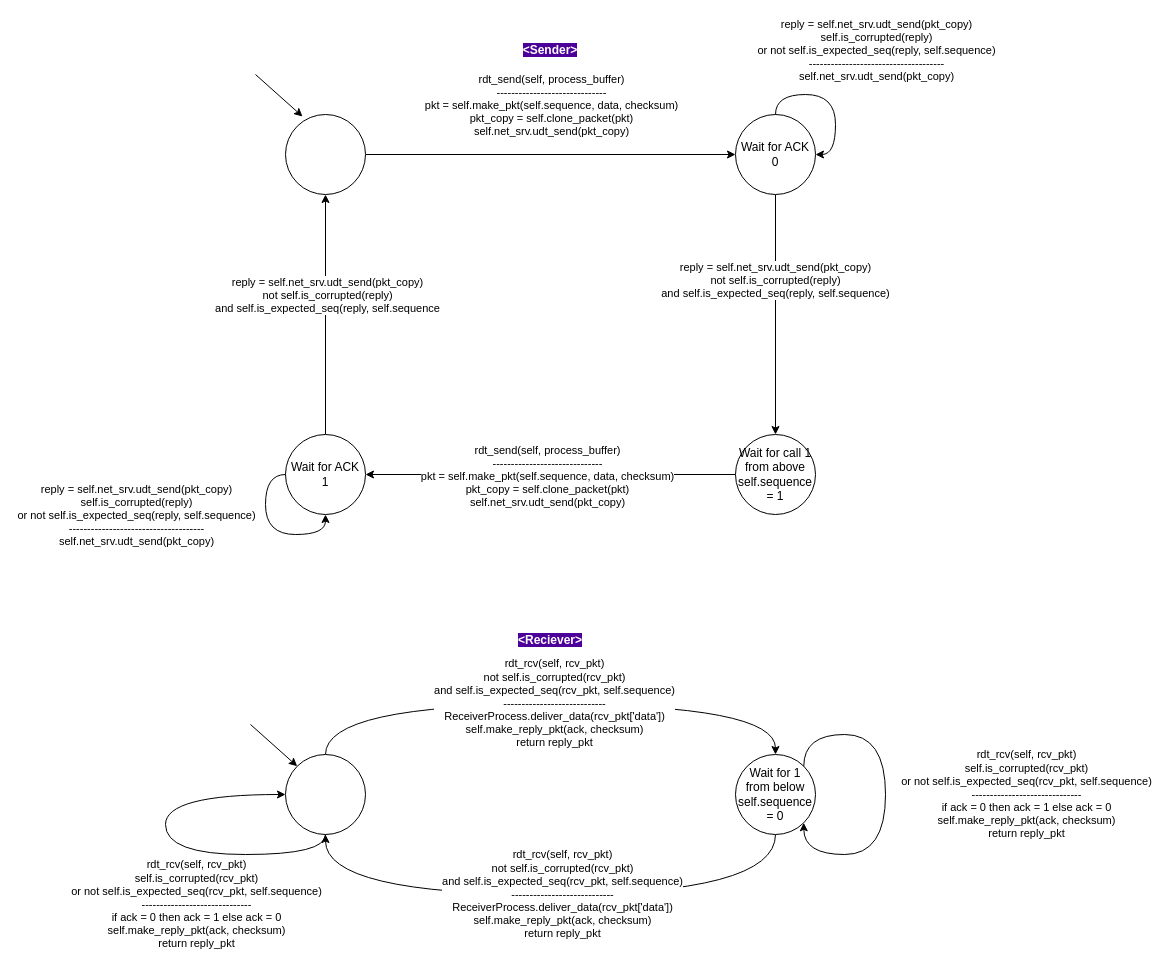
The diagram is 1169 pixels wide and 967 high, and some of its shapes have lost their labels. Each missing label, with the box of its shape:
Wait for 0 from below self.sequence = 0: (284, 754, 366, 834)
Wait for call 0 from above self.sequence = 0: (284, 114, 366, 194)
